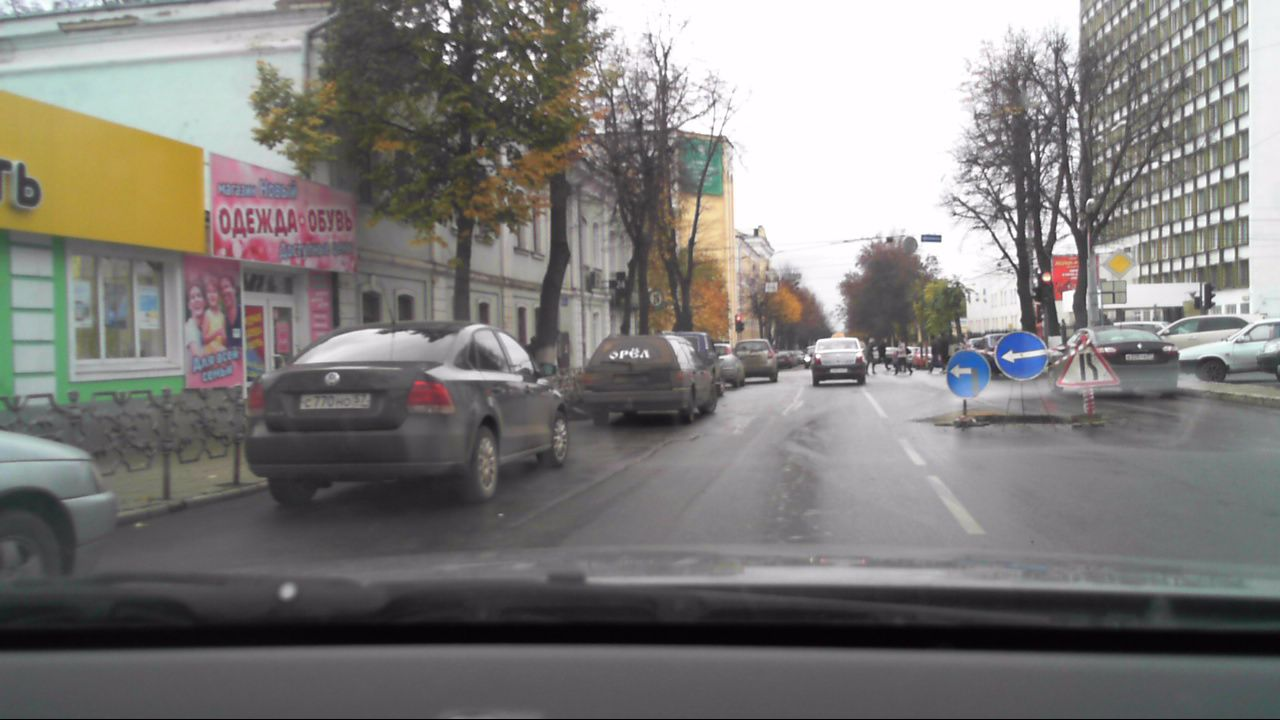Turn Left: (994, 331, 1048, 380)
